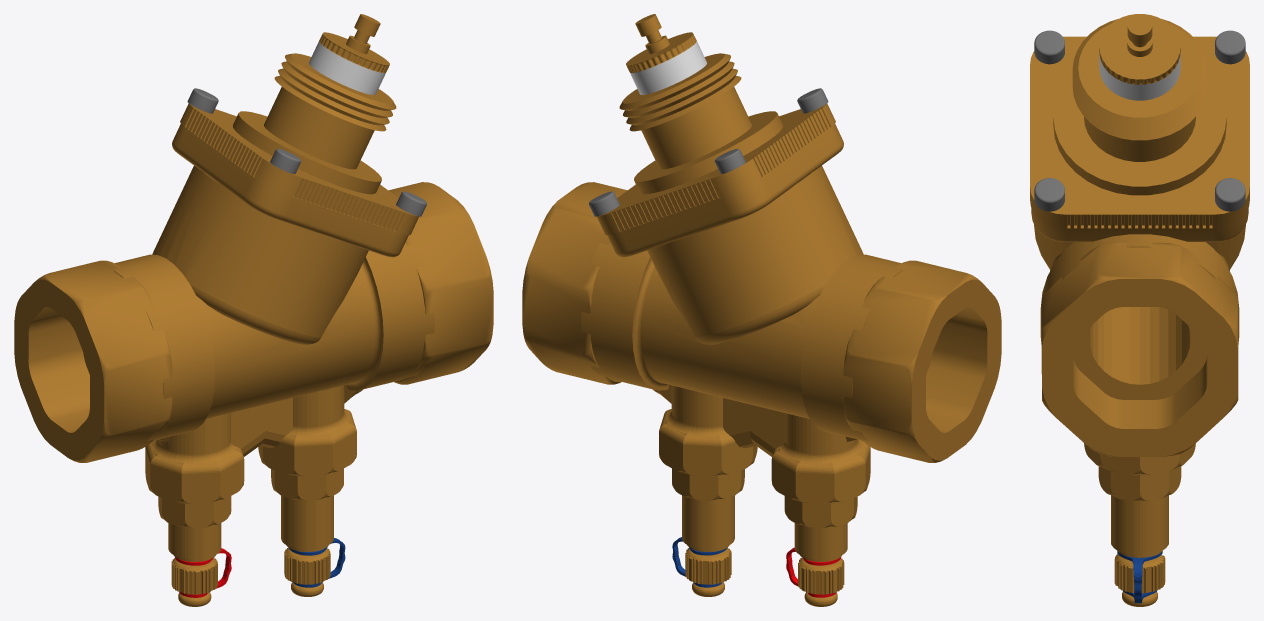
File: veriflow.glb
The picture shows the model from 3 angles, left to right: view 1: azimuth 30°, elevation 25°; view 2: azimuth 150°, elevation 25°; view 3: azimuth 270°, elevation 25°; orthographic projection. The views are drawn at different scales.
Visible parts, largest first — view 1: Circle.004; view 2: Circle.004; view 3: Circle.004.
Part boxes in pixels (x1,y1,x2,y2): Circle.004: (14,14,493,606); Circle.004: (522,14,1001,606); Circle.004: (1030,14,1249,606).
Bounding box in the file's own units: 4.63 × 6.38 × 2.07.
